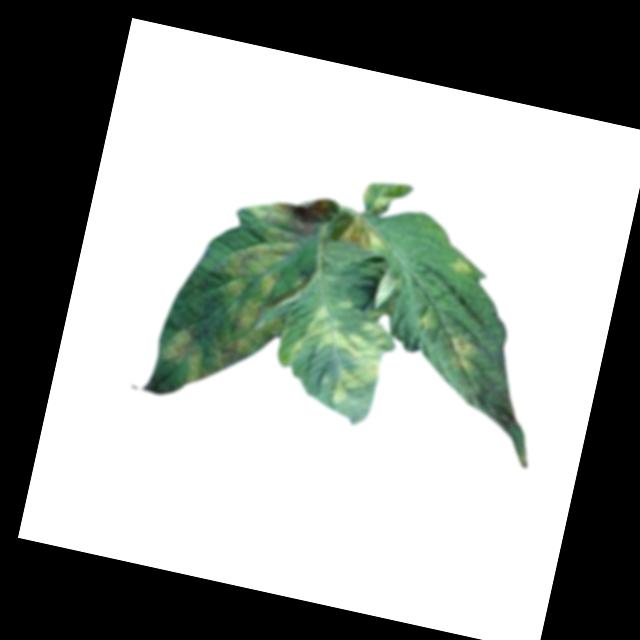Leaf_Mold: (161, 172, 333, 403), (293, 293, 394, 408), (435, 333, 483, 376), (339, 214, 388, 254), (446, 258, 472, 280)
